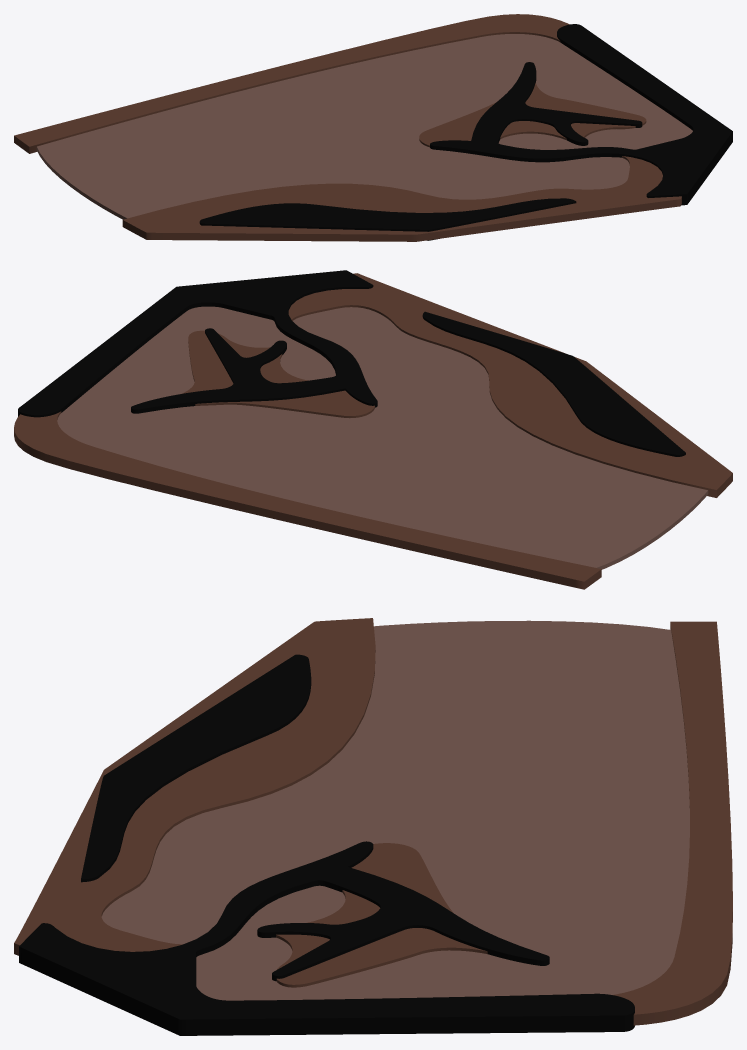
File: emoji_u1f91c_1f3ff.glb
3 renders of one model, top to bottom at view 1: azimuth 30°, elevation 25°; view 2: azimuth 150°, elevation 25°; view 3: azimuth 270°, elevation 25°, orthographic. The views are drawn at different scales.
Visible parts, largest first — view 1: emoji_u1f91c_1f3ff; view 2: emoji_u1f91c_1f3ff; view 3: emoji_u1f91c_1f3ff.
Boxes of the visible parts, box(x1,y1,x2,y2) form: emoji_u1f91c_1f3ff: box(14, 14, 732, 241); emoji_u1f91c_1f3ff: box(14, 270, 732, 589); emoji_u1f91c_1f3ff: box(14, 618, 732, 1035).
Bounding box in the file's own units: 0.0318 × 0.0006 × 0.0239.
